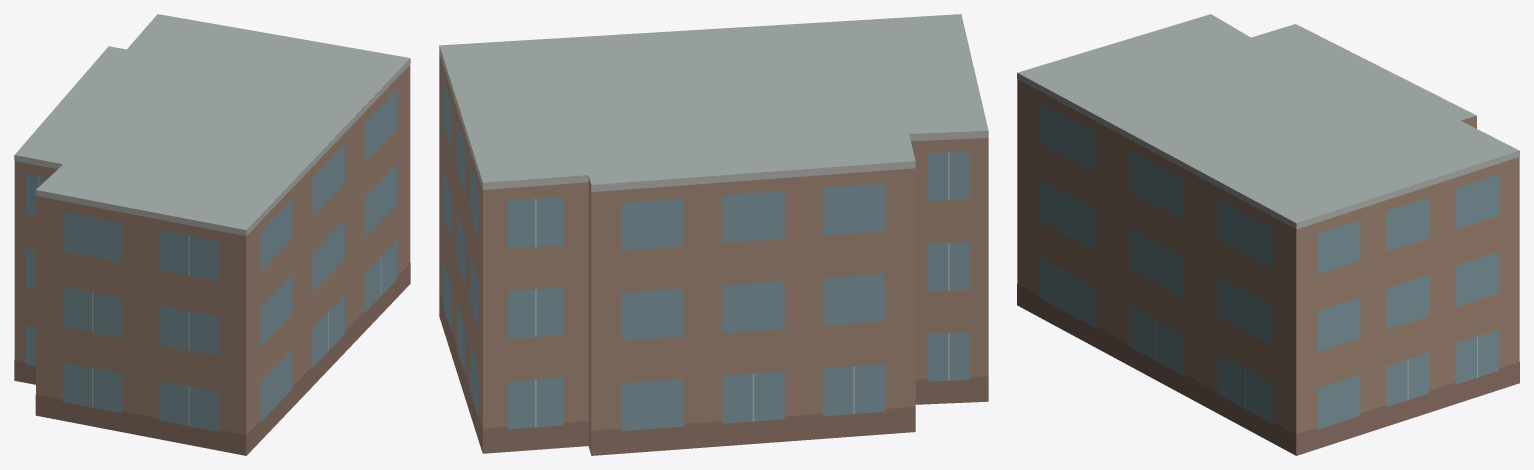
The model's file is survey-upis-32780489.glb.
3 renders of one model, left to right at view 1: azimuth 30°, elevation 25°; view 2: azimuth 150°, elevation 25°; view 3: azimuth 270°, elevation 25°, orthographic. The views are drawn at different scales.
Parts seen in each view (by area): view 1: survey-upis-32780489.tmp; view 2: survey-upis-32780489.tmp; view 3: survey-upis-32780489.tmp.
Part boxes in pixels (box(x1,y1,x2,y2)): survey-upis-32780489.tmp: box(14, 14, 410, 455); survey-upis-32780489.tmp: box(439, 14, 988, 455); survey-upis-32780489.tmp: box(1017, 14, 1519, 455).
Bounding box in the file's own units: 17.67 × 9.15 × 17.92.
